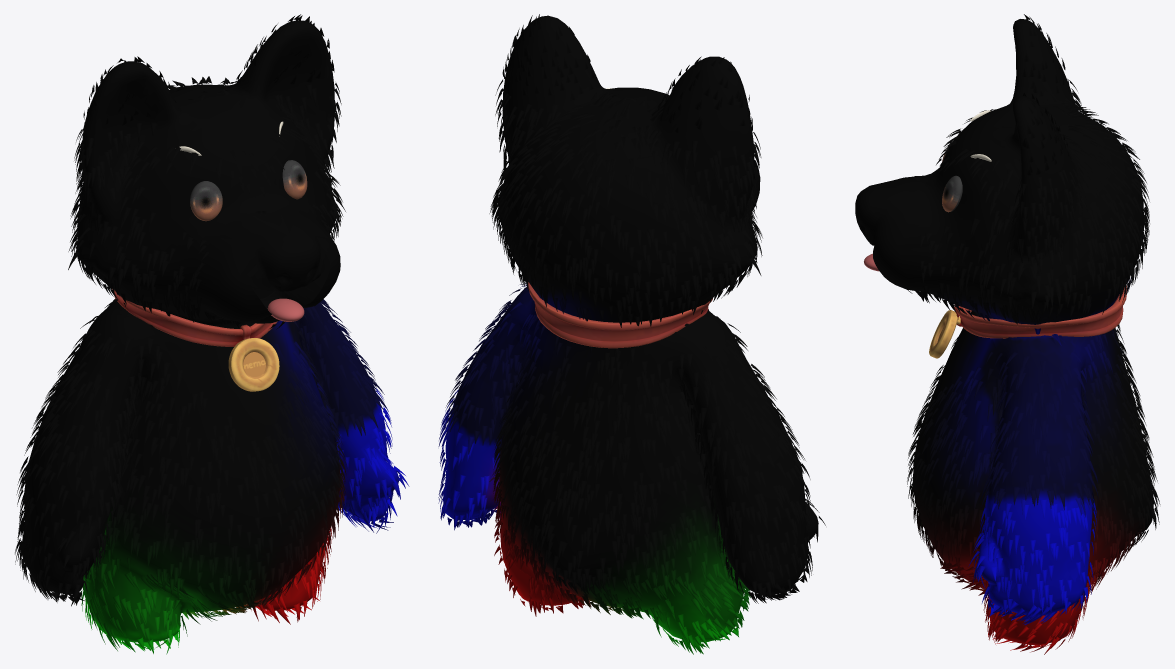
Rendered from nemo_table_animated.glb.
The picture shows the model from 3 angles, left to right: view 1: azimuth 30°, elevation 25°; view 2: azimuth 150°, elevation 25°; view 3: azimuth 270°, elevation 25°; orthographic projection. The views are drawn at different scales.
Visible parts, largest first — view 1: BoundedShellGroom, LayeredCurvedGroom, Body, Collar, Nemo_Normal, Small tongue inside smile; view 2: BoundedShellGroom, LayeredCurvedGroom, Body, Collar; view 3: BoundedShellGroom, LayeredCurvedGroom, Body, Collar, Nemo_Normal.
Boxes of the visible parts, x1,y1,x2,y2 form: BoundedShellGroom: (21,20,398,642); LayeredCurvedGroom: (15,14,409,654); Body: (23,48,387,628); Collar: (112,289,279,391); Nemo_Normal: (190,160,307,221); Small tongue inside smile: (267,298,304,321); BoundedShellGroom: (443,15,818,641); LayeredCurvedGroom: (438,14,825,654); Body: (445,70,812,623); Collar: (528,282,712,348); BoundedShellGroom: (855,19,1153,644); LayeredCurvedGroom: (907,14,1160,654); Body: (858,74,1127,607); Collar: (929,285,1126,358); Nemo_Normal: (942,140,962,212).
Bounding box in the file's own units: 1.73 × 2.75 × 1.36.
8 materials, 5 textured.
